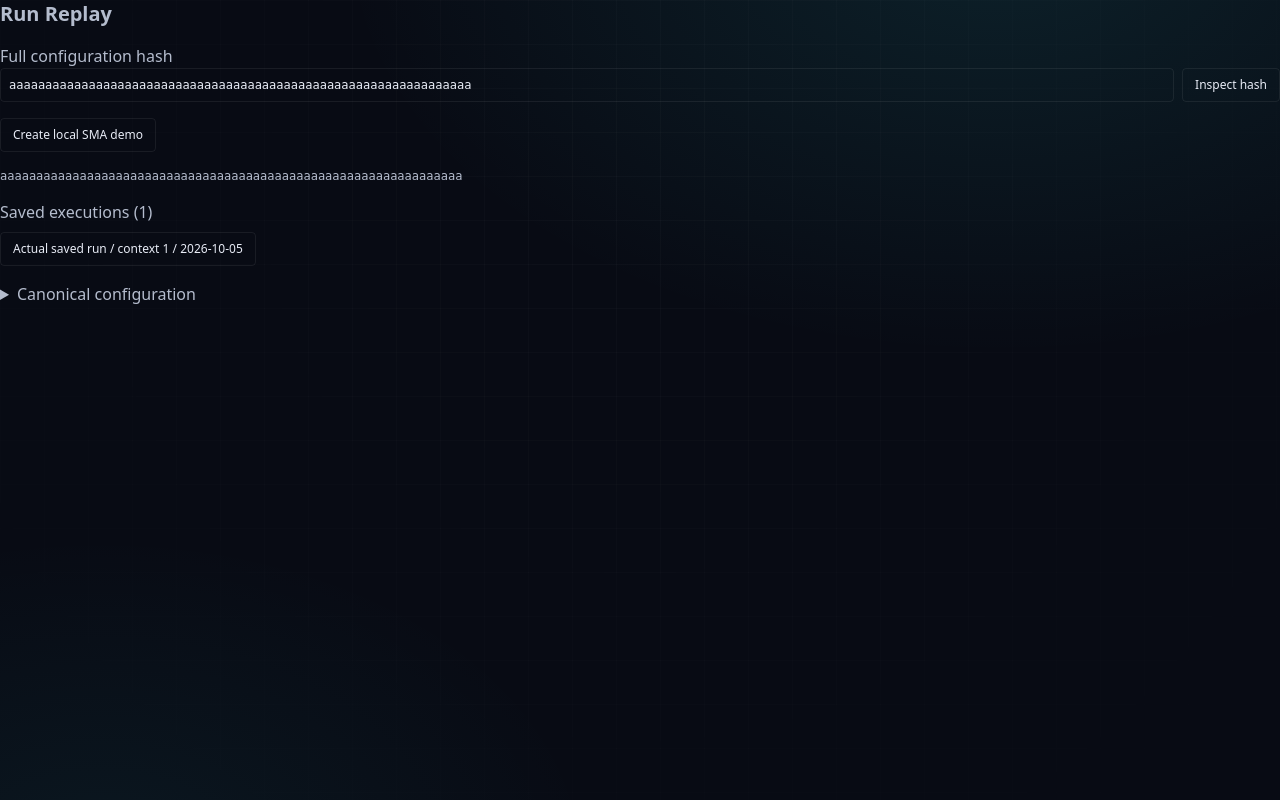
Scenario: rechecks preflight at confirmation and refuses content changed since inspection
This screenshot has width=1280, height=800.
Step 1. Click the button "Actual saved run / context 1 / 2026-10-05" → click(128, 249), box 0,232 -> 256,266
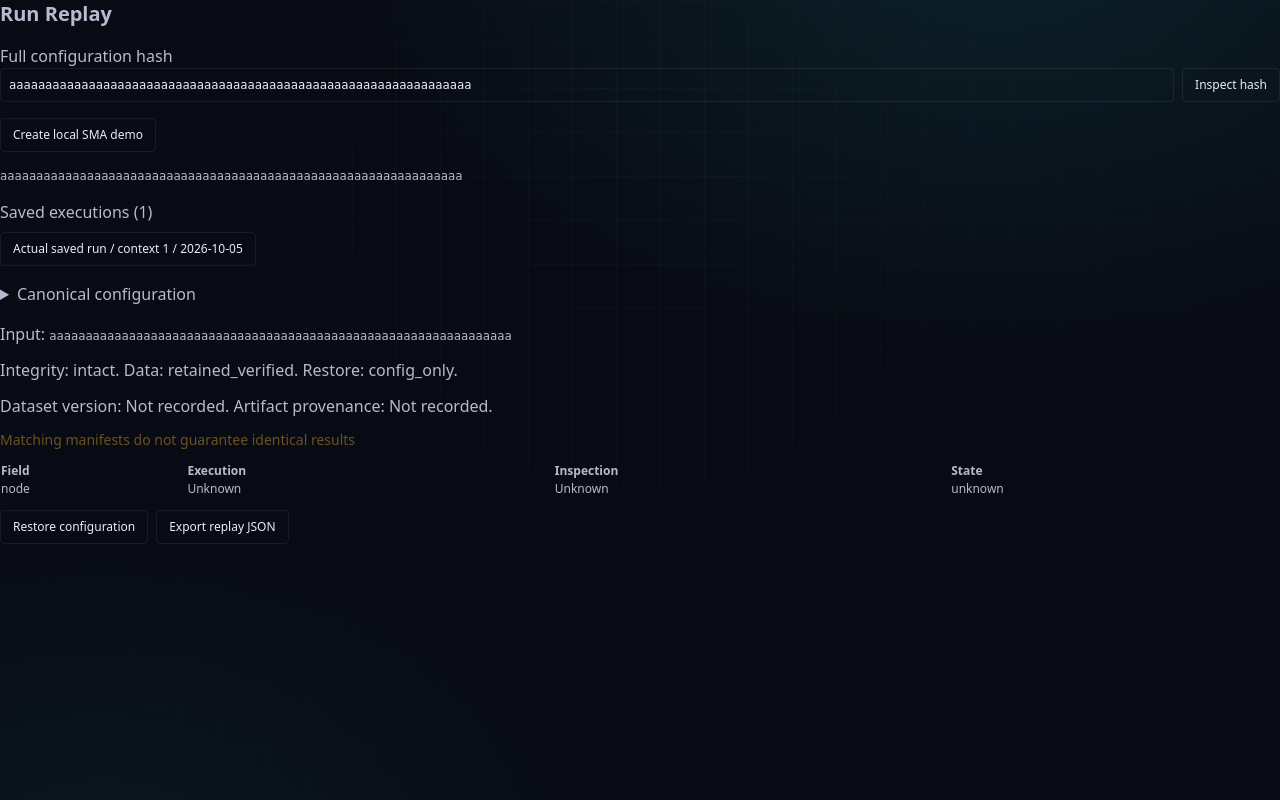
Step 2. Click the button "Restore configuration" → click(74, 527), box 0,510 -> 148,544
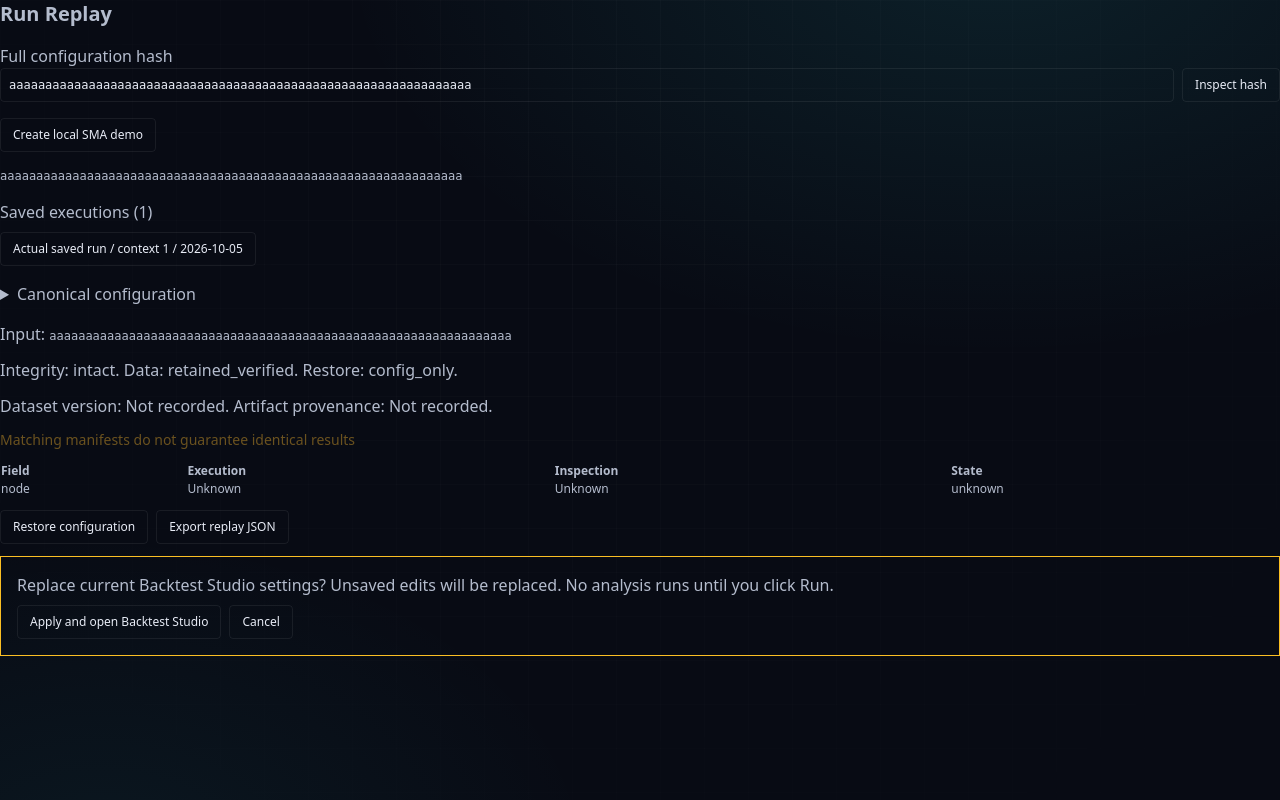
Step 3. Click the button "Apply and open Backtest Studio" → click(119, 622), box 17,605 -> 221,639
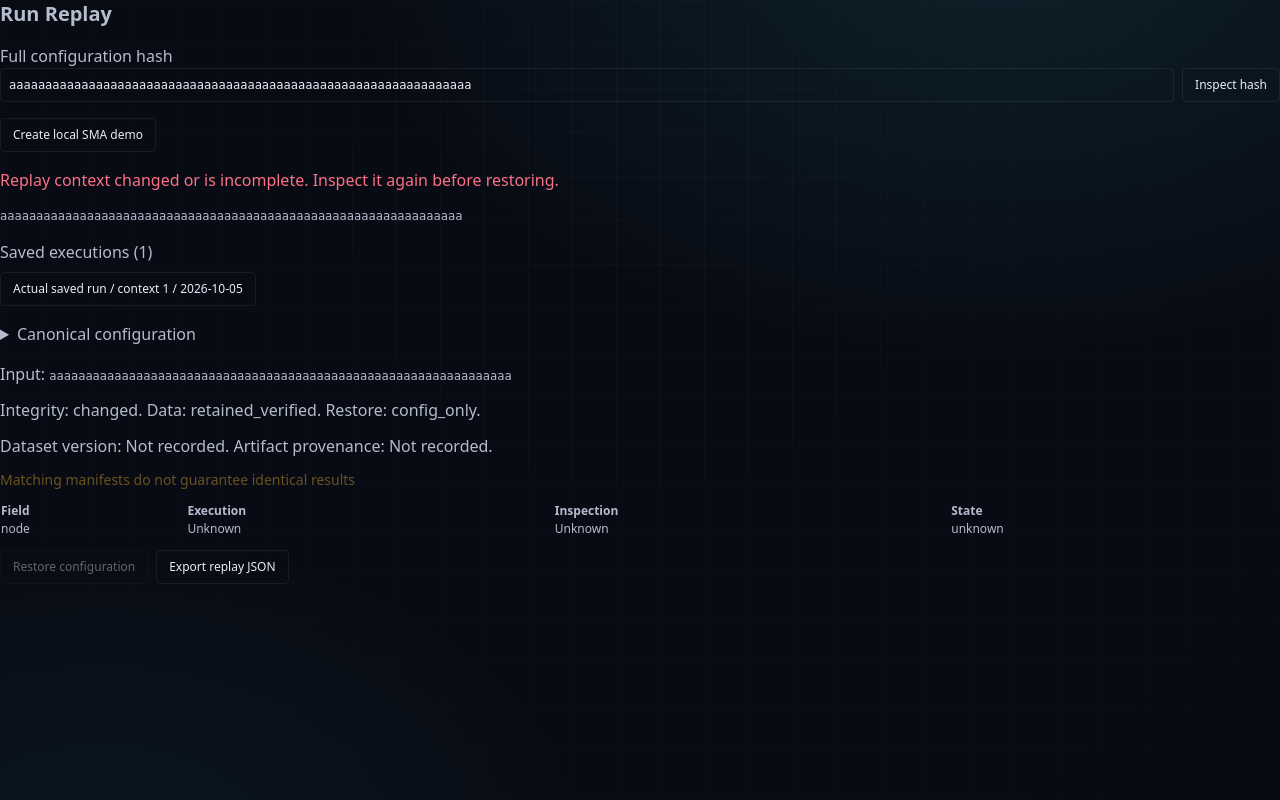
Expected: the message shows "changed or is incomplete", 0,169 -> 559,191
